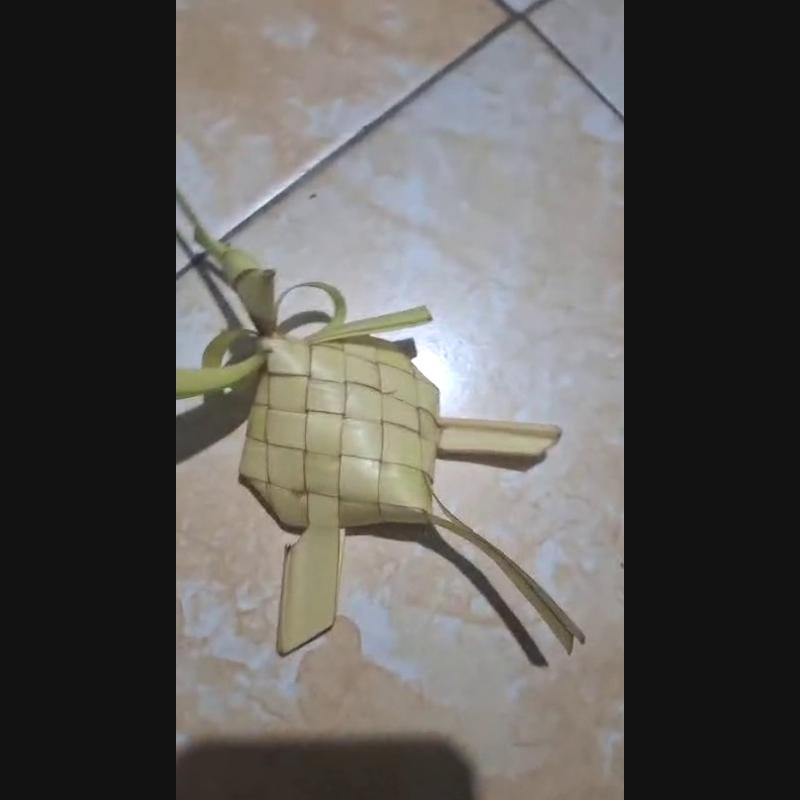Tipat Dampulan: (176, 177, 597, 660)
